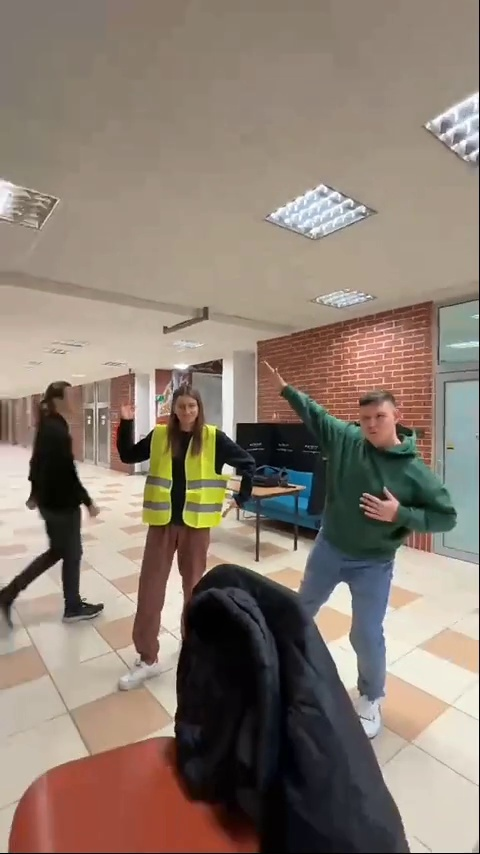no vest: (292, 382, 451, 716), (14, 376, 106, 628)
vest: (115, 383, 257, 694)
